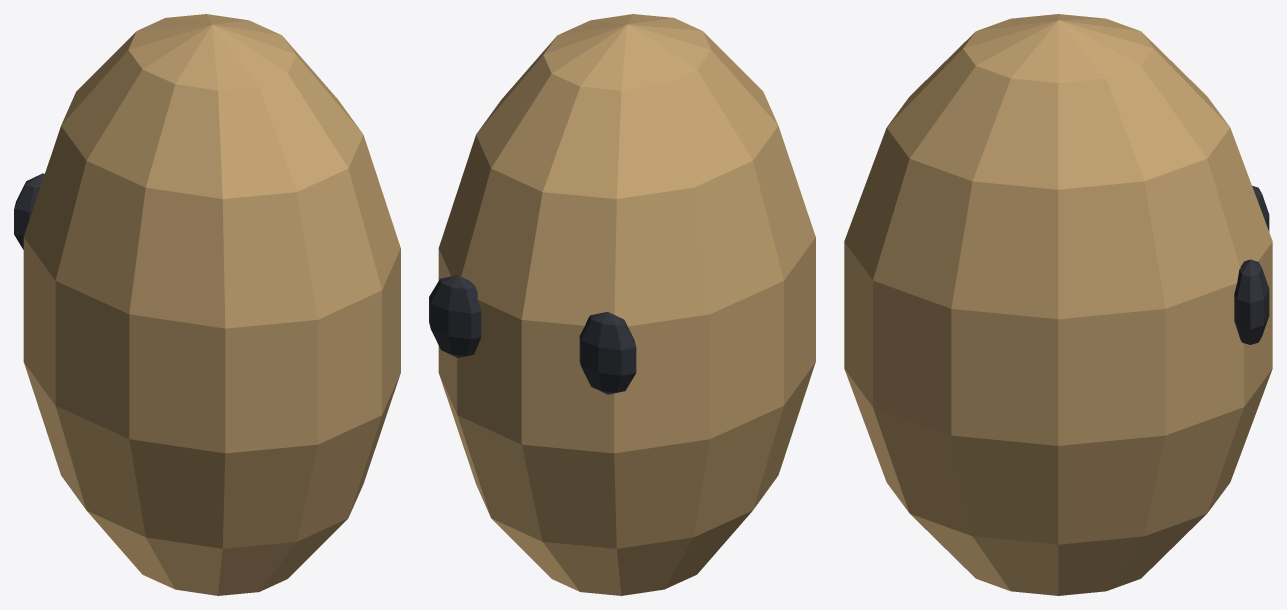
The model's file is gorehulk_d_head.obj.
The picture shows the model from 3 angles, left to right: view 1: azimuth 30°, elevation 25°; view 2: azimuth 150°, elevation 25°; view 3: azimuth 270°, elevation 25°; orthographic projection.
Parts seen in each view (by area): view 1: gorehulk_d_head; view 2: gorehulk_d_head; view 3: gorehulk_d_head.
Part boxes in pixels (x1,y1,x2,y2): gorehulk_d_head: [14, 14, 400, 595]; gorehulk_d_head: [429, 14, 815, 595]; gorehulk_d_head: [844, 14, 1272, 595].
Bounding box in the file's own units: 0.2925 × 0.5 × 0.3412.
